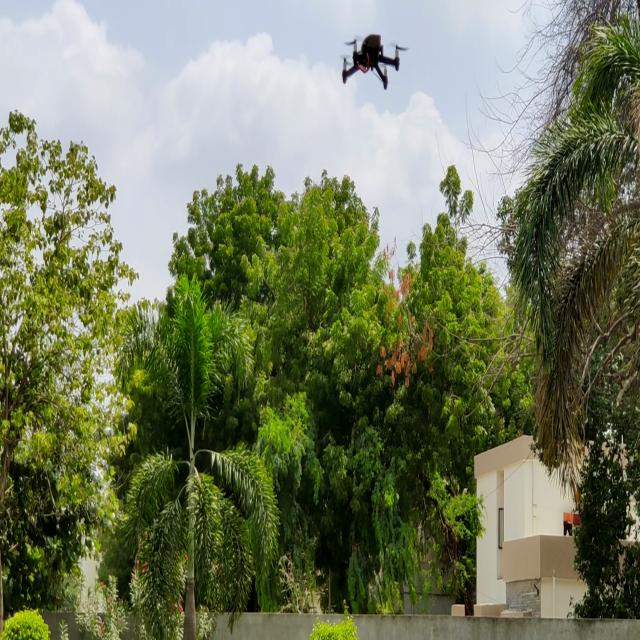drone: (337, 32, 406, 92)
